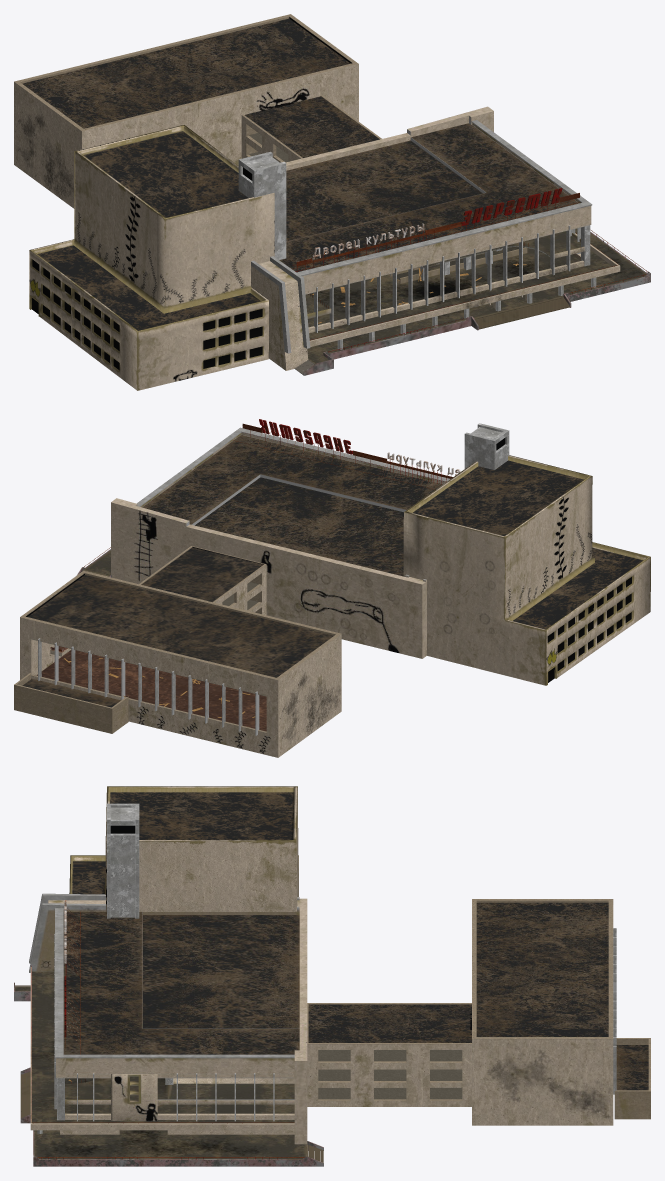
3 renders of one model, top to bottom at view 1: azimuth 30°, elevation 25°; view 2: azimuth 150°, elevation 25°; view 3: azimuth 270°, elevation 25°, orthographic. The views are drawn at different scales.
Parts seen in each view (by area): view 1: extensionBuilding_low, gym_low, roof_low, base_low, secondFloor_low, columns_low, sign, thirdFloor_low, rails; view 2: gym_low, extensionBuilding_low, roof_low, base_low, columns_low, sign; view 3: gym_low, roof_low, extensionBuilding_low, base_low, secondFloor_low, thirdFloor_low, columns_low, sign, rails.
Boxes of the visible parts, x1,y1,x2,y2 form: extensionBuilding_low: [29, 125, 274, 390]; gym_low: [14, 14, 381, 208]; roof_low: [279, 120, 592, 294]; base_low: [251, 106, 650, 375]; secondFloor_low: [307, 233, 620, 346]; columns_low: [238, 151, 596, 349]; sign: [293, 188, 579, 271]; thirdFloor_low: [305, 231, 584, 318]; rails: [308, 230, 647, 352]; gym_low: [14, 546, 341, 757]; extensionBuilding_low: [403, 455, 650, 685]; roof_low: [137, 427, 449, 576]; base_low: [77, 498, 426, 658]; columns_low: [38, 423, 509, 735]; sign: [233, 419, 460, 489]; gym_low: [307, 899, 650, 1125]; roof_low: [55, 908, 299, 1078]; extensionBuilding_low: [69, 786, 298, 911]; base_low: [14, 893, 323, 1166]; secondFloor_low: [30, 967, 294, 1130]; thirdFloor_low: [65, 1074, 294, 1120]; columns_low: [37, 803, 616, 1133]; sign: [64, 900, 80, 1054]; rails: [31, 966, 304, 1159].
Bounding box in the file's own units: 1.86 × 0.6276 × 2.
Materials: 6 (6 with a texture image).
